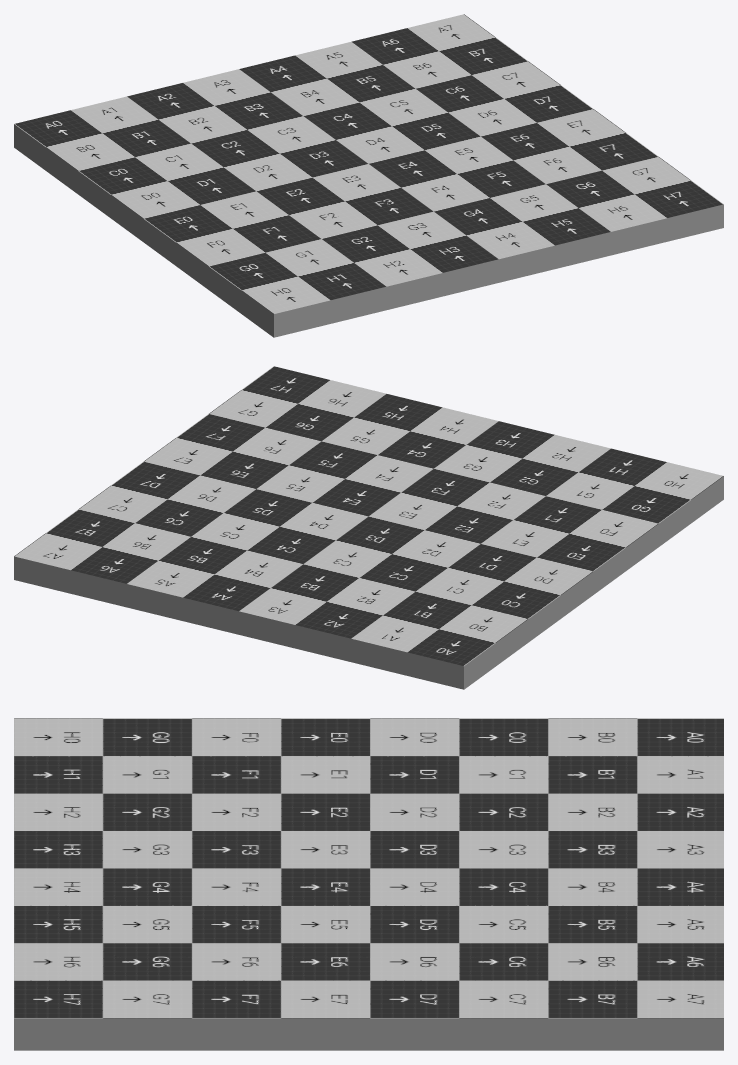
Rendered from yuka2.fbx.
The picture shows the model from 3 angles, top to bottom: view 1: azimuth 30°, elevation 25°; view 2: azimuth 150°, elevation 25°; view 3: azimuth 270°, elevation 25°; orthographic projection. The views are drawn at different scales.
Parts seen in each view (by area): view 1: pCube1; view 2: pCube1; view 3: pCube1.
Part boxes in pixels (<box>): pCube1: <box>14,14,723,337</box>; pCube1: <box>14,366,723,689</box>; pCube1: <box>14,718,723,1050</box>.
Size of the model in its own units: 20 by 1 by 20.
Materials: 1 (1 with a texture image).
